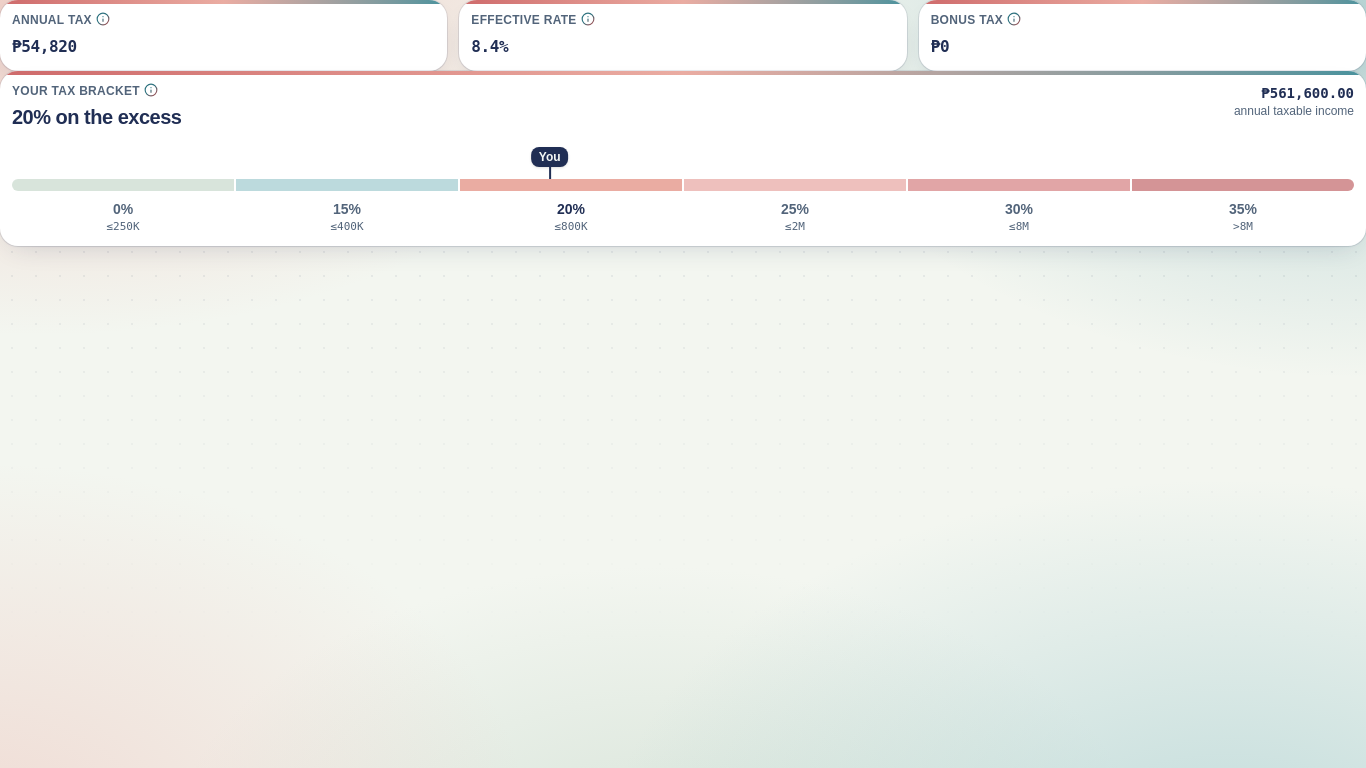
Test case: ResultInsights › explains the bonus tax with the exempt amount
Click the button named "More about Bonus tax". click: click(1014, 19)
box: [1007,12,1021,26]
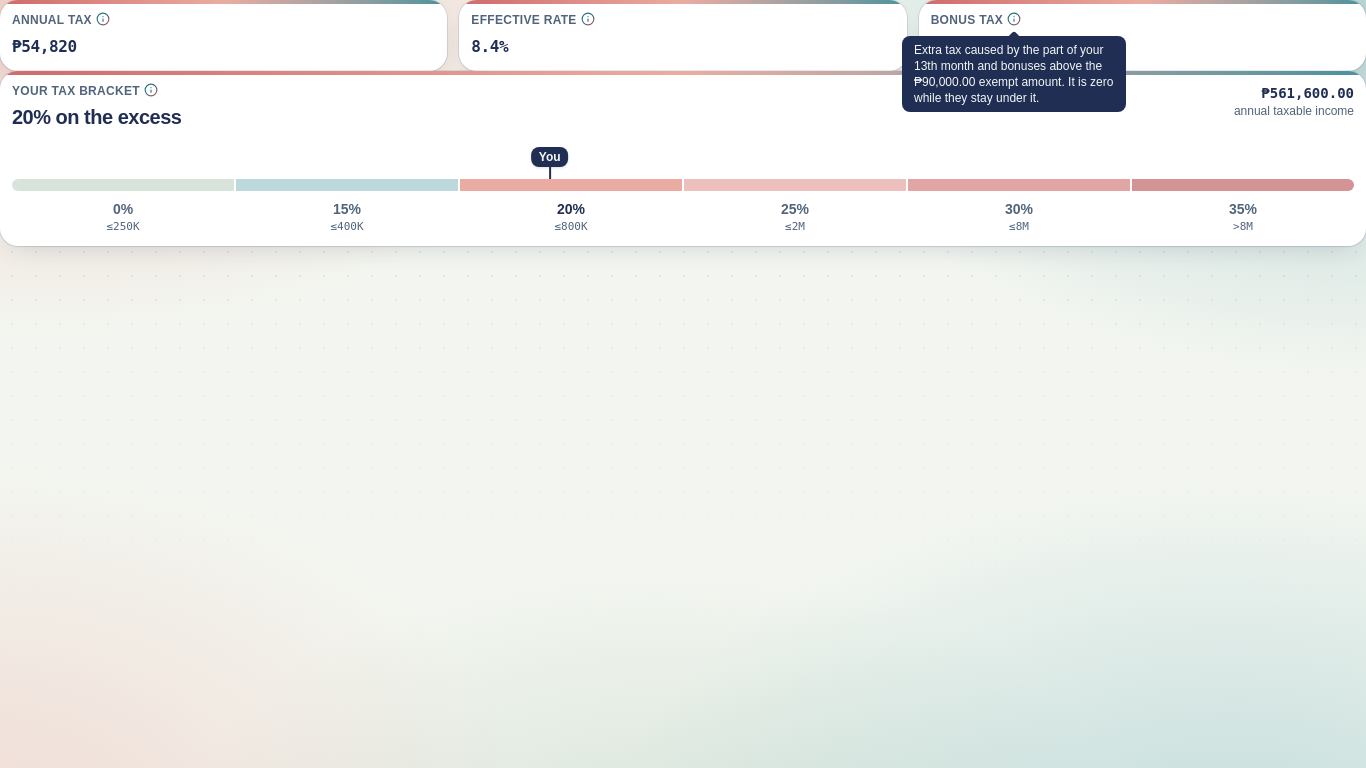
Expected: the tooltip shows "Extra tax caused by the part of your 13th month and bonuses above the ₱90,000.00 exempt amount. It is zero while they stay under it.", [914,43,1114,105]
